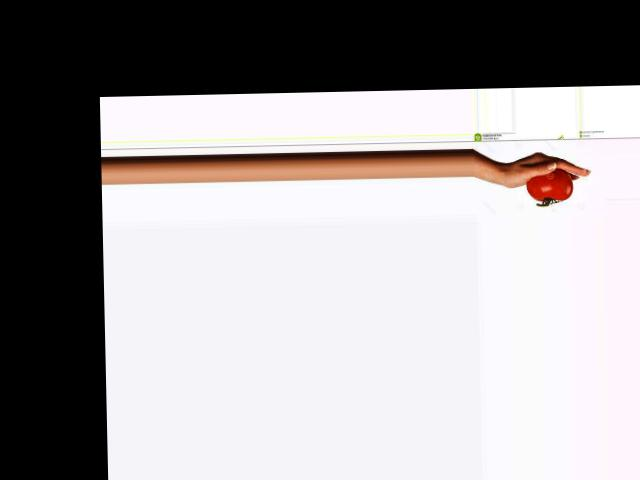tomato: (526, 168, 573, 201)
